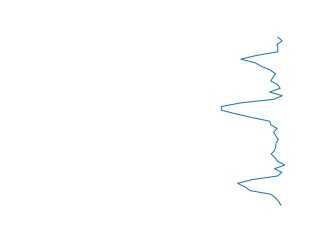underwaterNaturalLevee: (218, 36, 290, 206)
